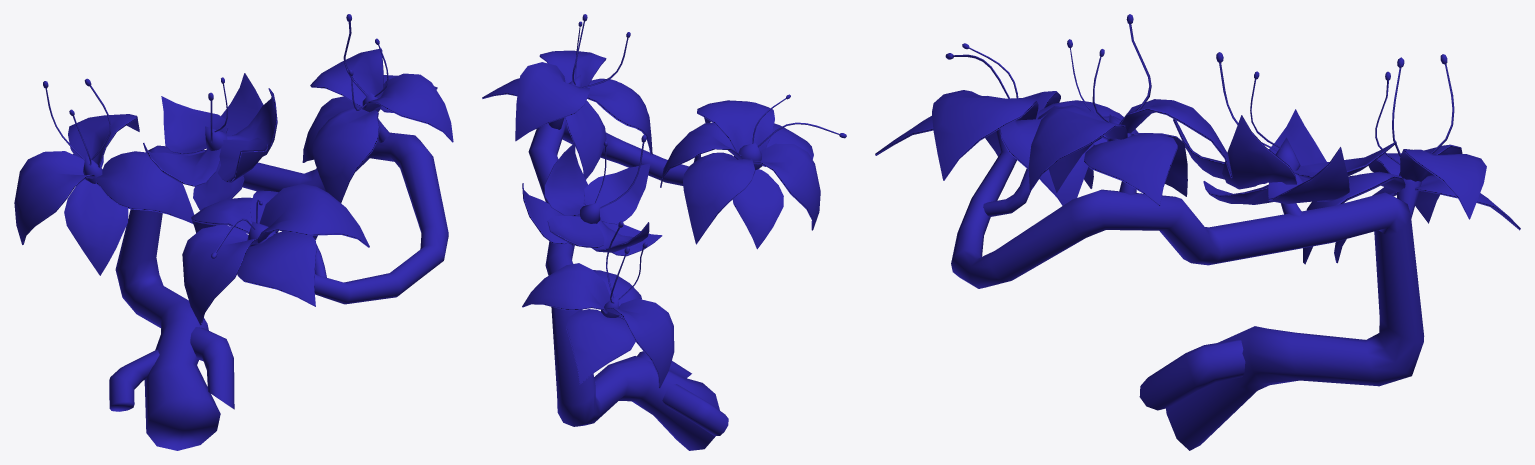
File: SpawnTree.fbx
3 views of the same model, side by side, from view 1: azimuth 30°, elevation 25°; view 2: azimuth 150°, elevation 25°; view 3: azimuth 270°, elevation 25° (orthographic). The views are drawn at different scales.
Visible parts, largest first — view 1: Tree_low; view 2: Tree_low; view 3: Tree_low.
Boxes of the visible parts, x1=… form: Tree_low: x1=14, y1=14, x2=453, y2=450; Tree_low: x1=482, y1=14, x2=846, y2=450; Tree_low: x1=875, y1=14, x2=1520, y2=450.
Size of the model in its own units: 13.12 by 16.95 by 19.22.
